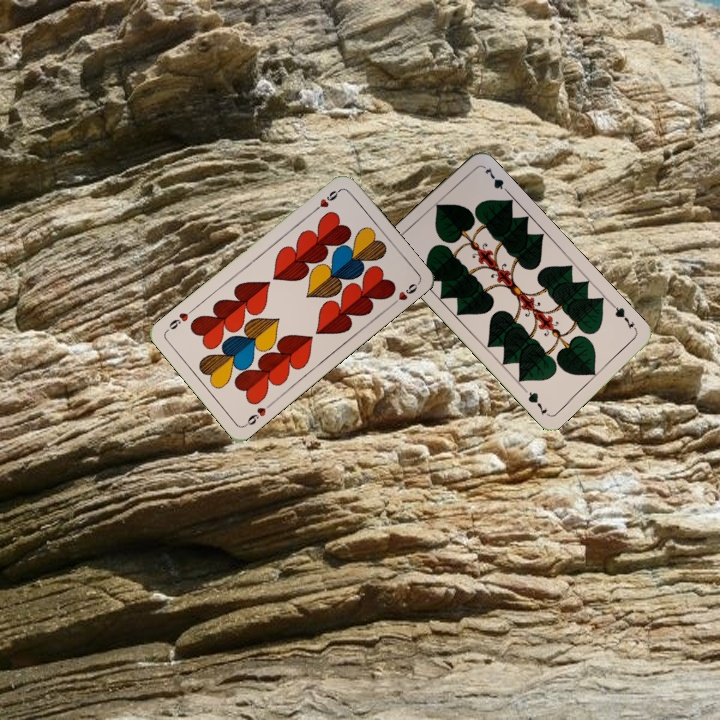G7: (609, 300, 639, 334)
H9: (240, 399, 275, 429), (309, 185, 343, 215)
